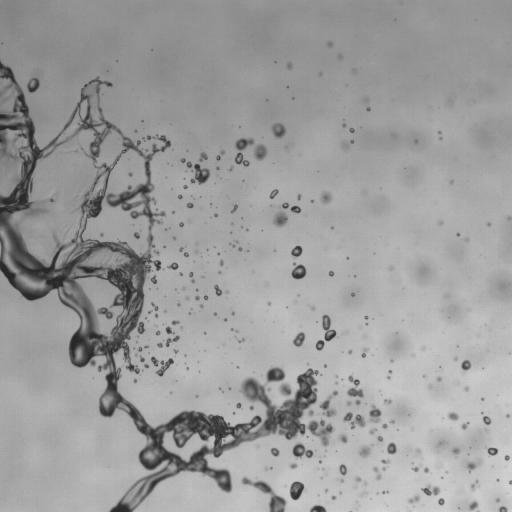droplet: (180, 158, 209, 184), (234, 138, 254, 166), (319, 390, 338, 417), (150, 356, 173, 376), (292, 442, 313, 458), (289, 481, 305, 500), (291, 263, 306, 279), (273, 210, 287, 226), (422, 484, 440, 495), (272, 123, 285, 138), (254, 144, 266, 160), (292, 332, 305, 346), (27, 78, 39, 92), (358, 445, 370, 457), (291, 245, 302, 258), (320, 191, 331, 203), (461, 360, 471, 371), (387, 442, 396, 454), (469, 501, 478, 511), (381, 459, 389, 470), (408, 495, 419, 503), (269, 189, 278, 198), (448, 412, 458, 420), (487, 447, 497, 455), (470, 480, 478, 490), (452, 447, 463, 454), (339, 464, 346, 475), (199, 152, 207, 161), (165, 326, 174, 334), (483, 416, 491, 425), (338, 434, 347, 442), (270, 448, 279, 456), (290, 205, 300, 212), (168, 262, 178, 269), (214, 285, 221, 295), (149, 275, 156, 283), (461, 422, 469, 429), (376, 435, 383, 443), (498, 506, 507, 511), (369, 428, 376, 434), (290, 463, 297, 469), (438, 498, 444, 505), (281, 203, 289, 208), (355, 476, 361, 482), (186, 203, 193, 208), (384, 399, 391, 404), (412, 466, 419, 471), (287, 62, 292, 68), (134, 232, 139, 238), (415, 448, 420, 454), (436, 462, 442, 467), (343, 143, 348, 148), (236, 403, 241, 408), (504, 455, 509, 460), (172, 320, 178, 324), (238, 338, 244, 342), (140, 356, 144, 362), (424, 467, 428, 473), (349, 128, 354, 132), (184, 252, 188, 257), (329, 271, 333, 276), (157, 343, 162, 347), (137, 347, 142, 351), (346, 401, 351, 405), (249, 405, 253, 410), (382, 424, 387, 428), (328, 42, 332, 46), (366, 107, 370, 111), (128, 172, 132, 176), (179, 222, 183, 226), (238, 247, 242, 251), (195, 296, 199, 300), (437, 377, 441, 381), (464, 387, 468, 391), (297, 194, 300, 199), (220, 260, 223, 265), (342, 123, 345, 127), (229, 167, 232, 171), (183, 185, 187, 188), (178, 195, 182, 198), (204, 295, 207, 299), (310, 306, 314, 309), (156, 331, 159, 335), (421, 346, 424, 350), (174, 349, 177, 353), (331, 496, 335, 499), (338, 55, 341, 58), (214, 213, 217, 216), (456, 233, 459, 236), (351, 293, 354, 296), (348, 350, 351, 353), (454, 357, 457, 360), (133, 379, 136, 382), (506, 414, 509, 417), (390, 420, 393, 423), (496, 499, 499, 502), (179, 248, 183, 250), (509, 480, 511, 484), (351, 140, 353, 143), (508, 217, 511, 219), (487, 223, 490, 225), (186, 297, 189, 299), (267, 302, 270, 304), (200, 305, 203, 307), (155, 314, 157, 317), (365, 316, 367, 319), (145, 364, 147, 367), (481, 398, 484, 400), (319, 460, 321, 463), (383, 491, 386, 493), (365, 98, 367, 100), (438, 131, 440, 133), (216, 167, 218, 169), (231, 244, 233, 246), (214, 313, 216, 315), (232, 312, 234, 314), (145, 346, 147, 348), (390, 359, 392, 361), (335, 375, 337, 377), (423, 375, 425, 377), (335, 382, 337, 384), (220, 389, 222, 391), (256, 445, 258, 447), (340, 479, 342, 481), (364, 482, 366, 484), (363, 493, 365, 495)
ligament: (0, 61, 329, 511), (241, 477, 286, 511), (343, 405, 381, 429), (315, 314, 336, 350), (347, 375, 363, 405), (465, 458, 482, 471), (164, 335, 179, 346), (309, 504, 326, 511), (373, 466, 381, 479), (216, 150, 224, 160), (361, 348, 368, 357), (151, 303, 158, 311), (189, 272, 194, 282), (231, 205, 237, 212)
